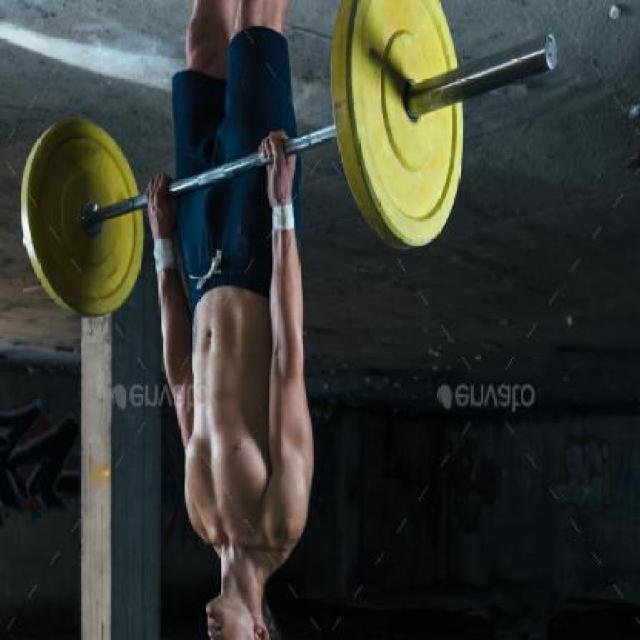Barbell: (540, 20, 563, 85)
